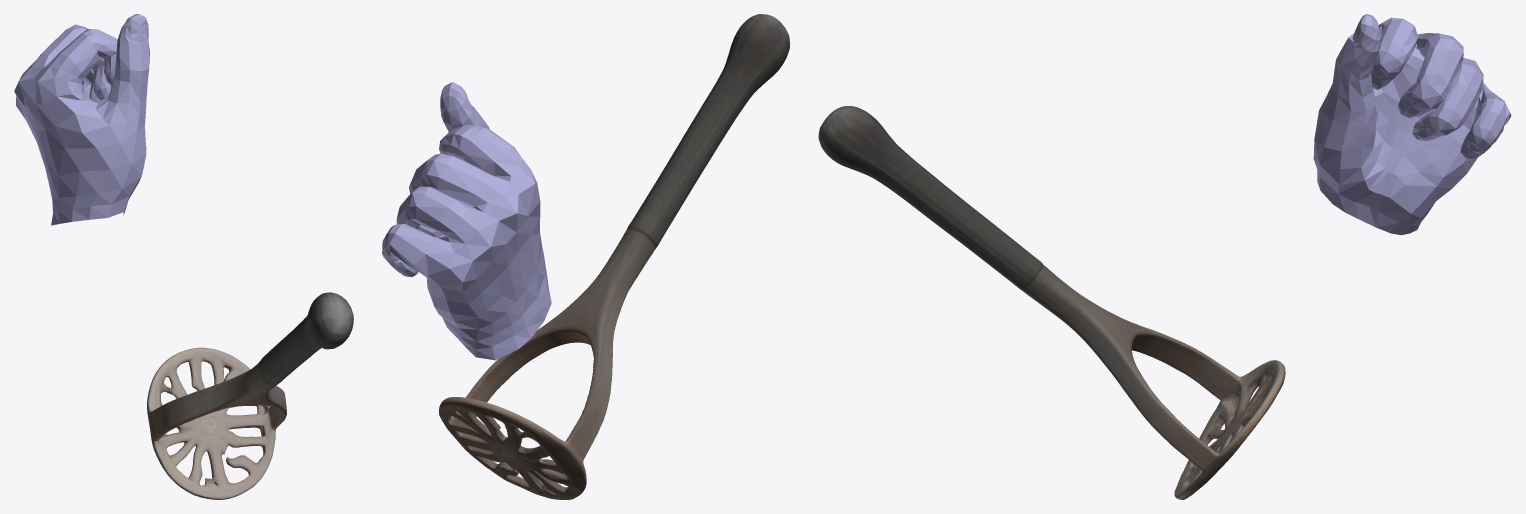
The model's file is frame_0086_source_000086_hand_object.glb.
3 views of the same model, side by side, from view 1: azimuth 30°, elevation 25°; view 2: azimuth 150°, elevation 25°; view 3: azimuth 270°, elevation 25° (orthographic). The views are drawn at different scales.
Visible parts, largest first — view 1: world; view 2: world; view 3: world.
Part boxes in pixels (x1,y1,x2,y2): world: (14, 14, 353, 499); world: (382, 14, 789, 499); world: (818, 14, 1511, 499).
Size of the model in its own units: 0.0981 by 0.2536 by 0.3358.
